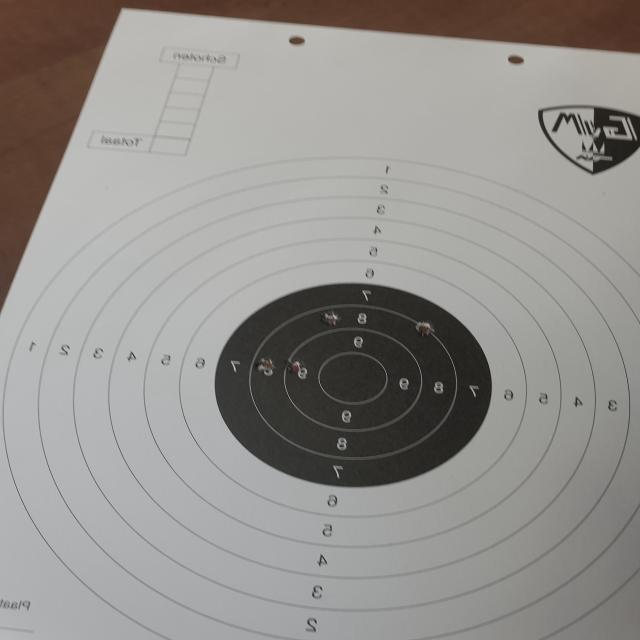8: (319, 310, 342, 327), (253, 358, 276, 374), (414, 321, 436, 337)
9: (284, 359, 306, 375)
Target: (0, 153, 640, 640)
black_contour: (214, 284, 493, 486)
